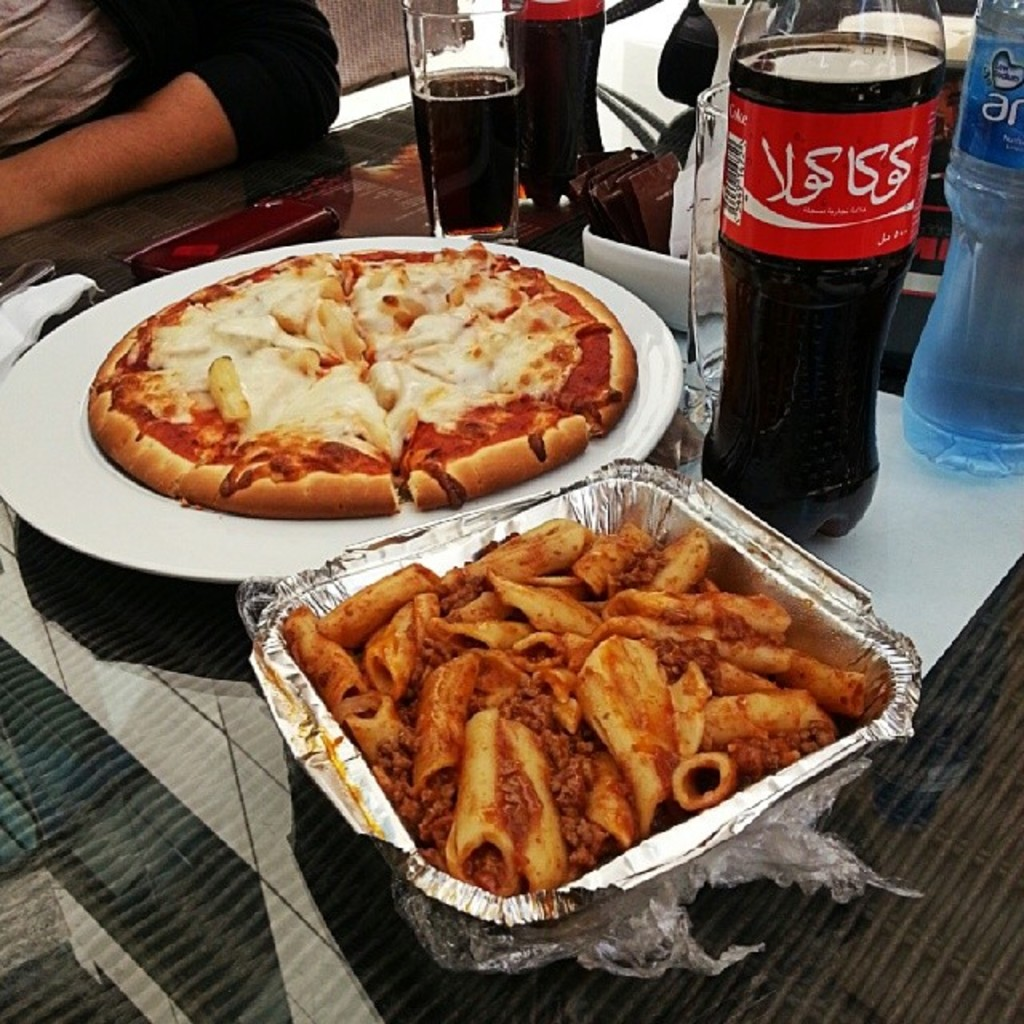Pizza: (100, 230, 632, 553)
